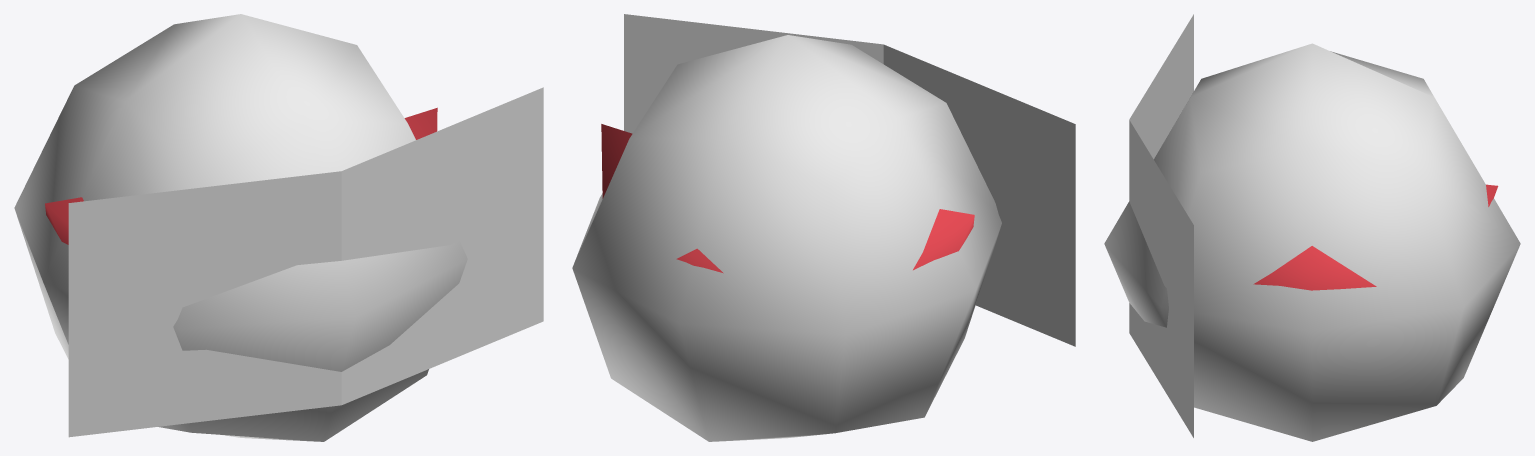
The model's file is model-spirit-spiky.fbx.
3 renders of one model, left to right at view 1: azimuth 30°, elevation 25°; view 2: azimuth 150°, elevation 25°; view 3: azimuth 270°, elevation 25°, orthographic. The views are drawn at different scales.
Parts seen in each view (by area): view 1: Cube.023; view 2: Cube.023; view 3: Cube.023.
Boxes of the visible parts, x1,y1,x2,y2 form: Cube.023: (14, 14, 543, 441); Cube.023: (572, 14, 1075, 441); Cube.023: (1104, 14, 1520, 441).
Size of the model in its own units: 0.8112 by 0.6919 by 0.6761.
